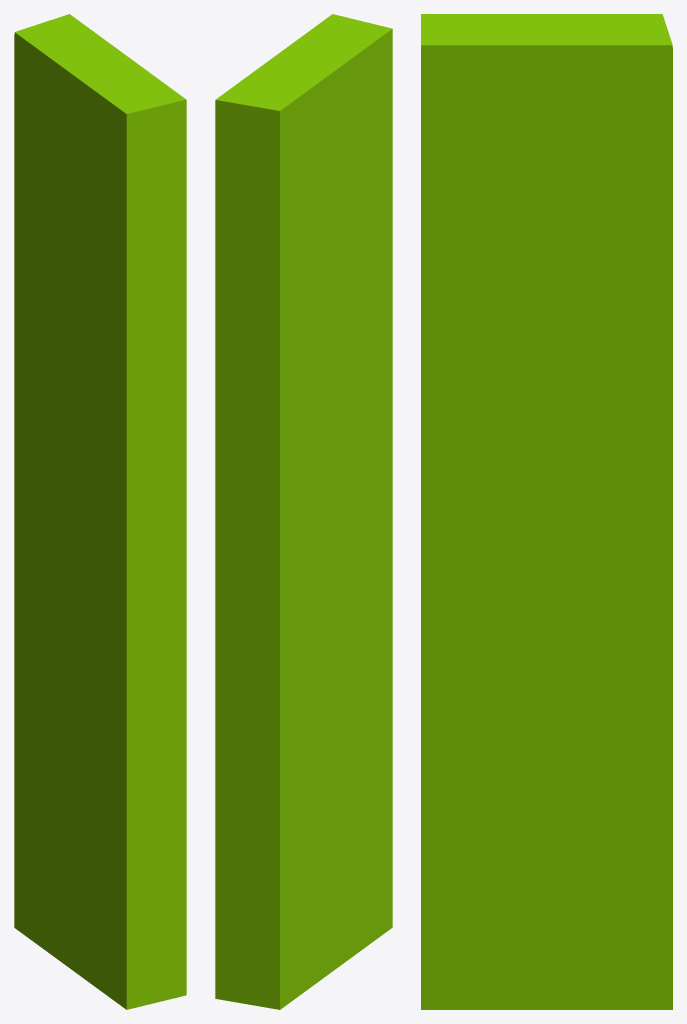
The model's file is simple_example_hole_part_37.obj.
3 views of the same model, side by side, from view 1: azimuth 30°, elevation 25°; view 2: azimuth 150°, elevation 25°; view 3: azimuth 270°, elevation 25° (orthographic). The views are drawn at different scales.
Bounding box in the file's own units: 5.09 × 72.79 × 17.22.
